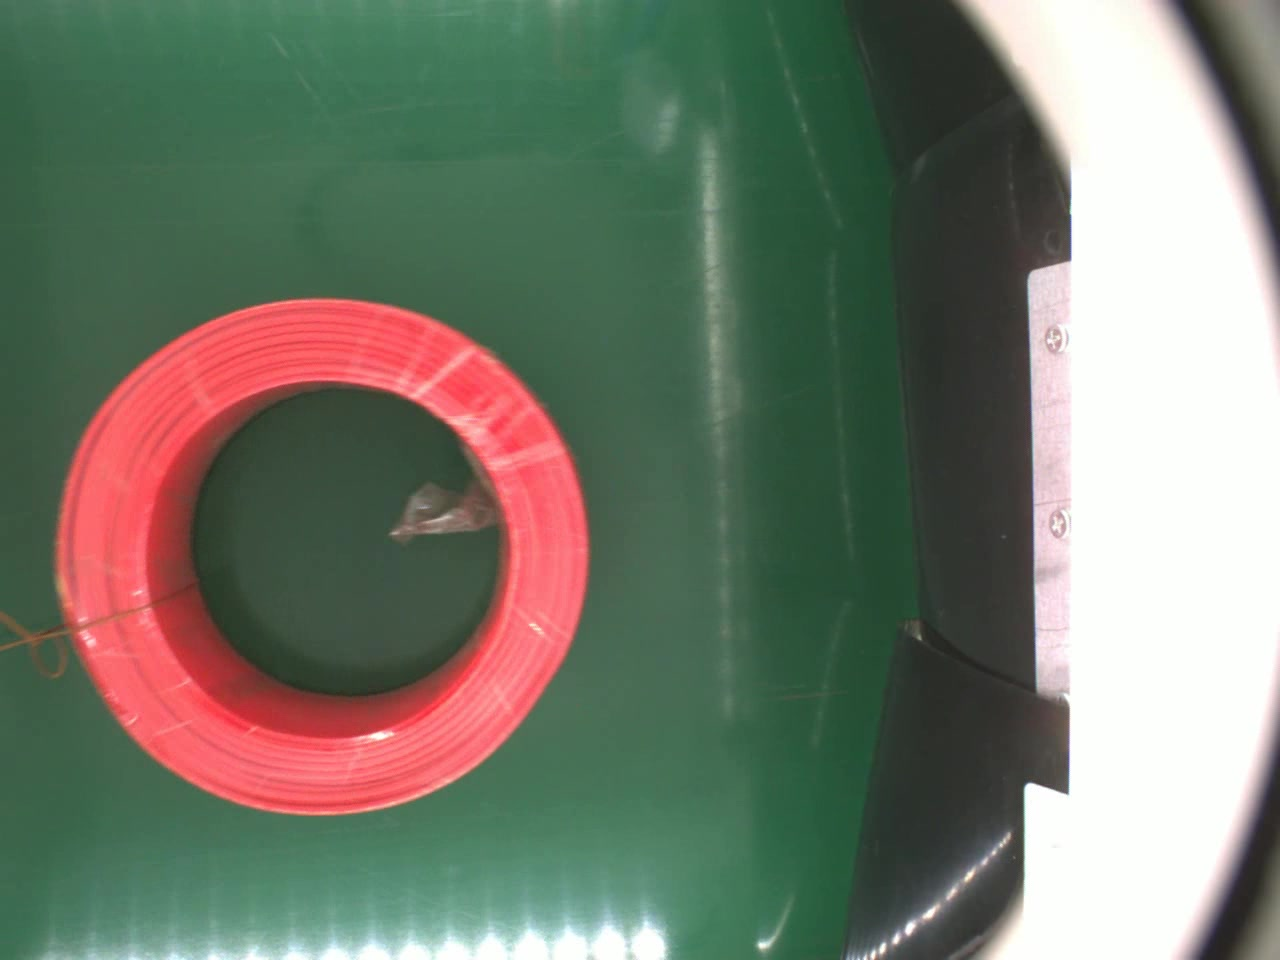red: (48, 291, 592, 822)
